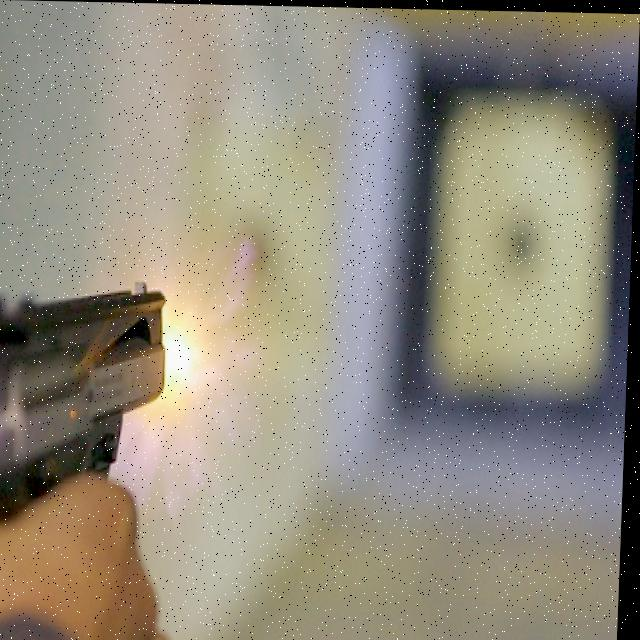pistol: (0, 270, 171, 537)
